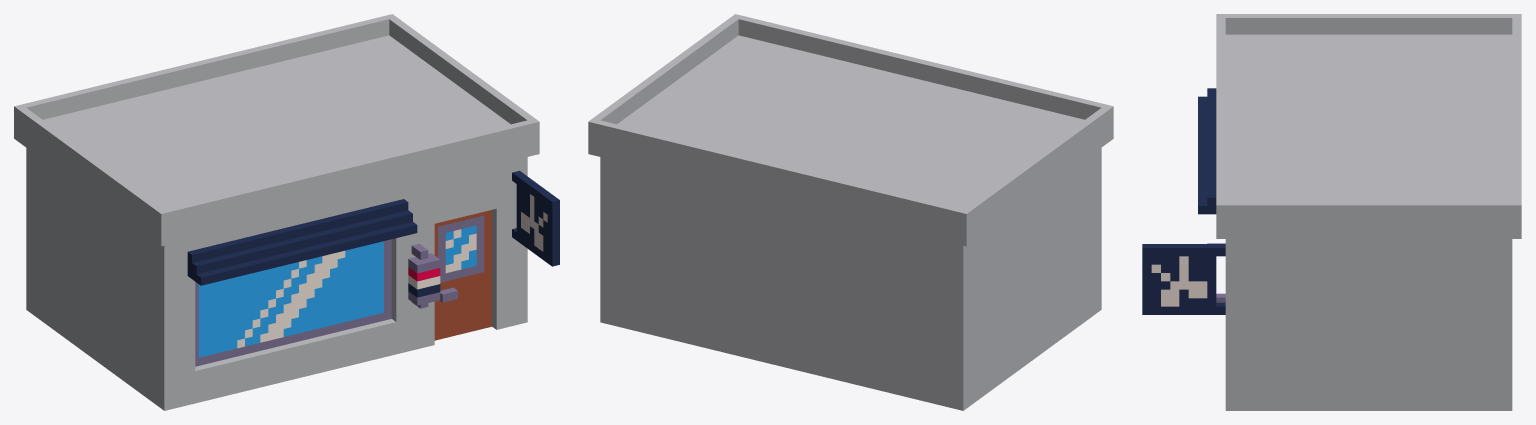
File: barber_shop_b.obj
3 views of the same model, side by side, from view 1: azimuth 30°, elevation 25°; view 2: azimuth 150°, elevation 25°; view 3: azimuth 270°, elevation 25° (orthographic). The views are drawn at different scales.
Size of the model in its own units: 4.9 by 2.5 by 4.1.
Materials: 1 (1 with a texture image).
